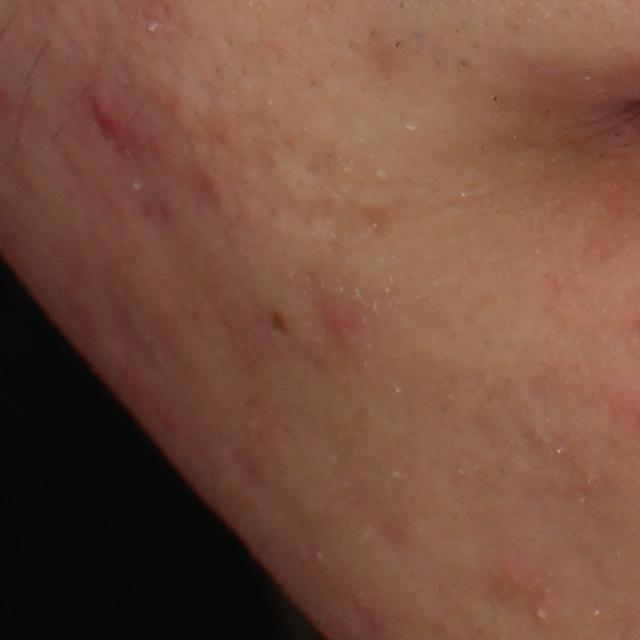nevus: (269, 306, 292, 335)
papule: (479, 546, 537, 606), (314, 300, 367, 358), (84, 90, 129, 154)
pustule: (531, 601, 554, 623)
